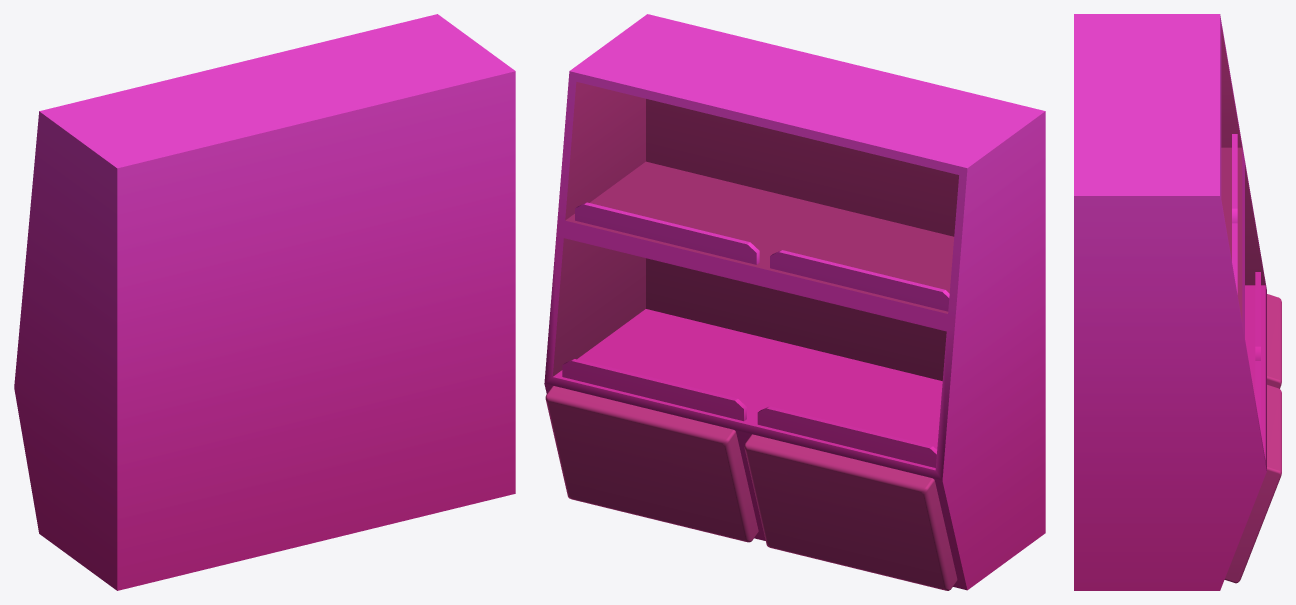
The model's file is Shelf_Short_Candy.fbx.
The picture shows the model from 3 angles, left to right: view 1: azimuth 30°, elevation 25°; view 2: azimuth 150°, elevation 25°; view 3: azimuth 270°, elevation 25°; orthographic projection. The views are drawn at different scales.
Parts seen in each view (by area): view 1: Shelf_Short_Candy; view 2: Shelf_Short_Candy; view 3: Shelf_Short_Candy.
Part boxes in pixels (x1,y1,x2,y2): Shelf_Short_Candy: (14, 14, 515, 590); Shelf_Short_Candy: (544, 14, 1045, 590); Shelf_Short_Candy: (1074, 14, 1281, 590).
Size of the model in its own units: 10.01 by 10.14 by 4.84.
